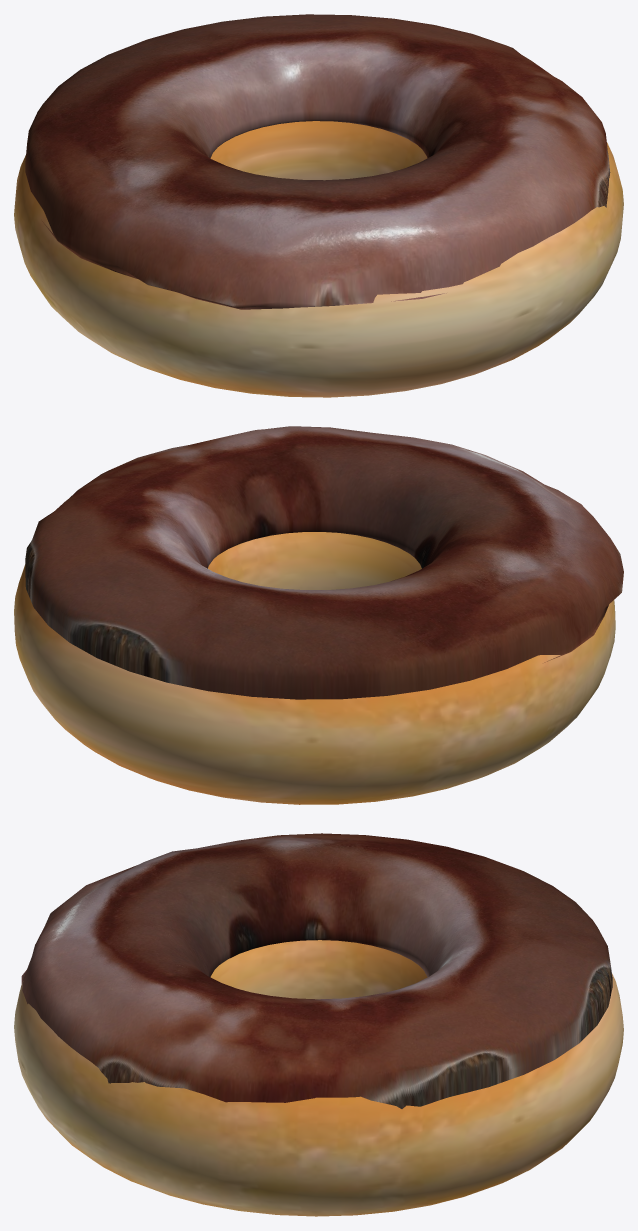
File: donut.fbx
3 renders of one model, top to bottom at view 1: azimuth 30°, elevation 25°; view 2: azimuth 150°, elevation 25°; view 3: azimuth 270°, elevation 25°, orthographic.
Parts seen in each view (by area): view 1: polySurface5; view 2: polySurface5; view 3: polySurface5.
Part boxes in pixels (box(x1,y1,x2,y2)): polySurface5: box(14, 14, 623, 397); polySurface5: box(14, 426, 623, 804); polySurface5: box(14, 833, 623, 1216).
Bounding box in the file's own units: 8.85 × 3.08 × 8.85.
